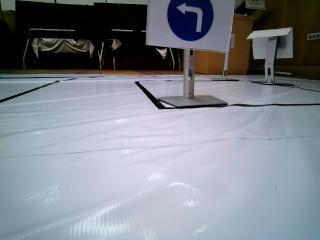left: (152, 0, 224, 47)
